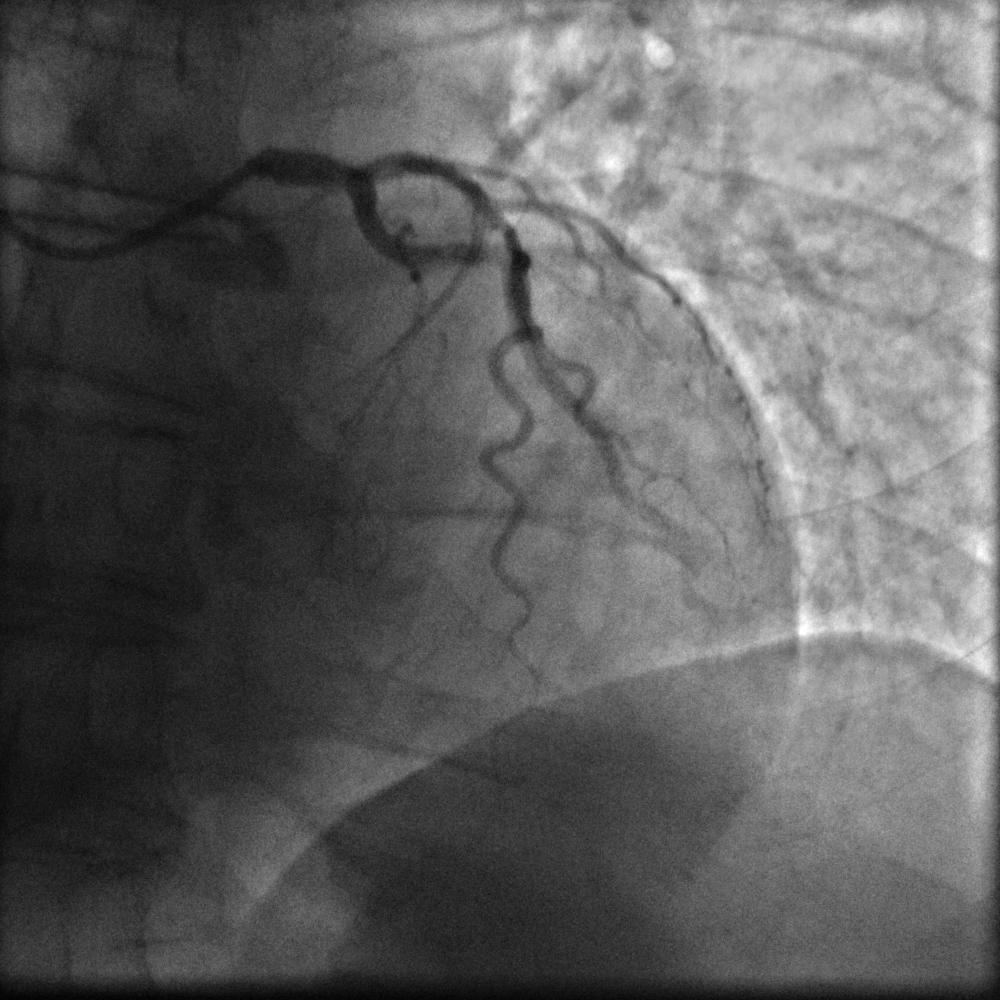Stenosis: (464, 235, 526, 277)
